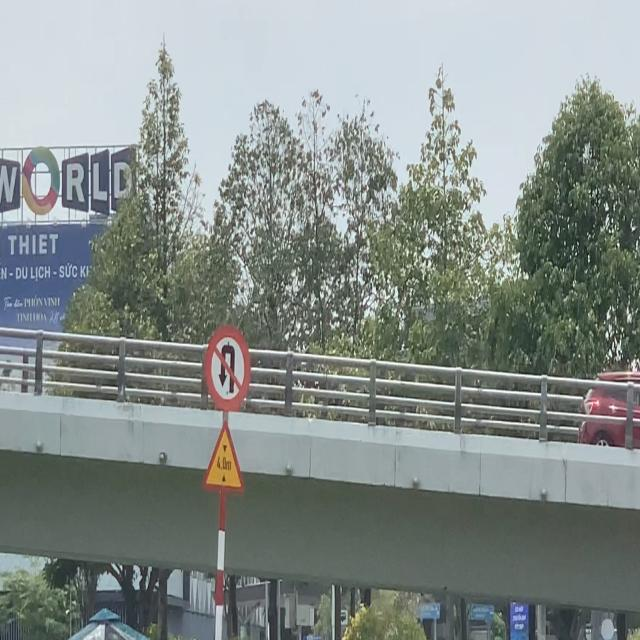Cam quay dau xe: (204, 324, 251, 413)
Nguy hiem: (201, 416, 246, 496)
